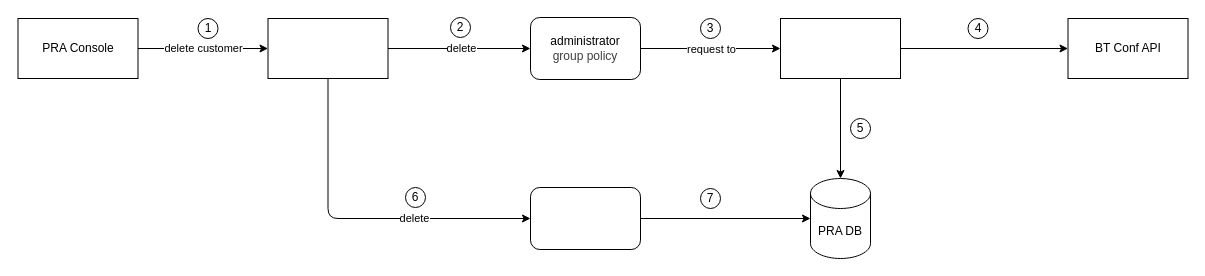
Some shapes in this 1205 by 276 pixel diagram are drawn without their labels. The shapes that lost their labels are listed below. From the top down, each one's box as (x1, y1, x2, y2) in pixels, then its label:
(267, 18, 388, 78): PRA API
(780, 18, 900, 78): PRA Sync API
(530, 186, 640, 250): customer
